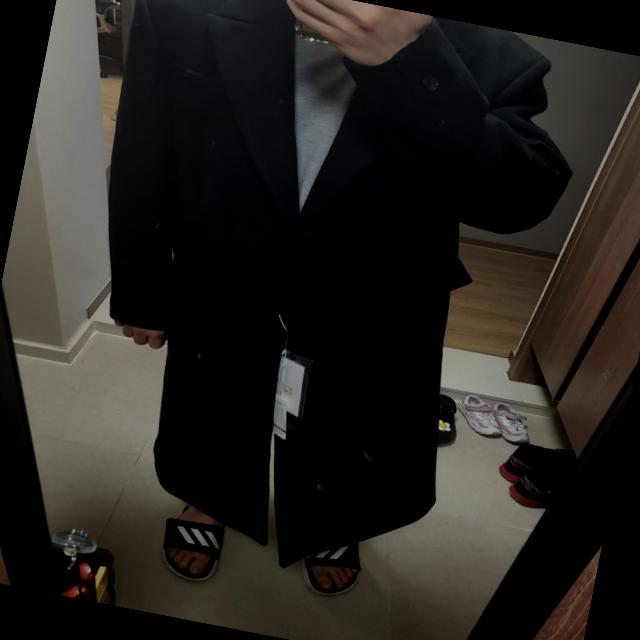coat: (35, 0, 595, 605)
